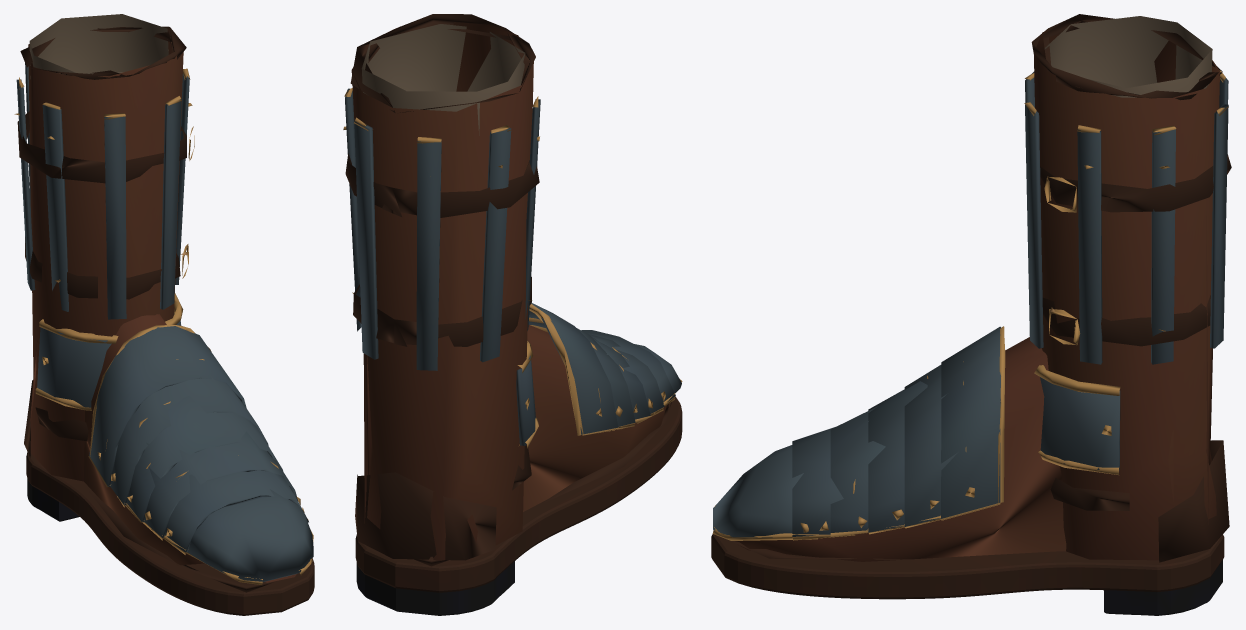
3 views of the same model, side by side, from view 1: azimuth 30°, elevation 25°; view 2: azimuth 150°, elevation 25°; view 3: azimuth 270°, elevation 25° (orthographic). The views are drawn at different scales.
Parts seen in each view (by area): view 1: blackened lamellar plate, oiled strap leather; view 2: oiled strap leather, blackened lamellar plate; view 3: oiled strap leather, blackened lamellar plate.
Part boxes in pixels (x1,y1,x2,y2): blackened lamellar plate: [14, 63, 313, 584]; oiled strap leather: [17, 14, 314, 615]; oiled strap leather: [345, 14, 682, 615]; blackened lamellar plate: [343, 88, 682, 448]; oiled strap leather: [711, 14, 1231, 615]; blackened lamellar plate: [712, 70, 1228, 540].
Bounding box in the file's own units: 0.109 × 0.3187 × 0.2782.
